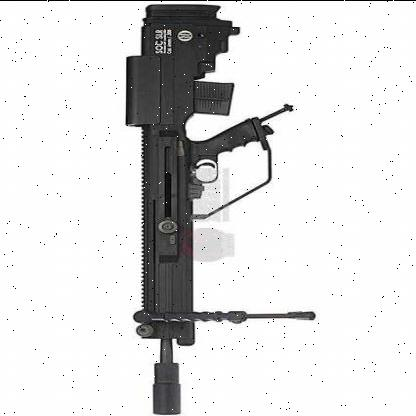rifle: (110, 0, 311, 413)
